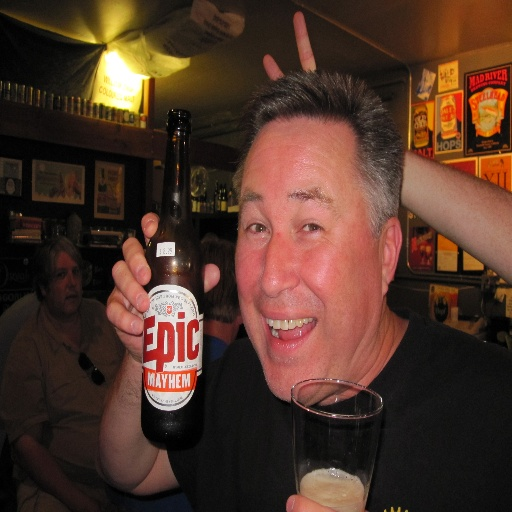hand: (105, 209, 219, 359), (263, 12, 316, 79)
